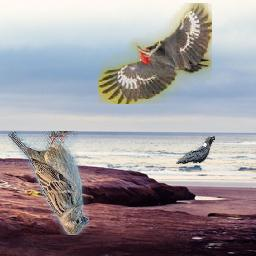Crow: (177, 136, 216, 164)
Sparrow: (9, 131, 90, 235)
Woodpecker: (98, 4, 212, 105)
